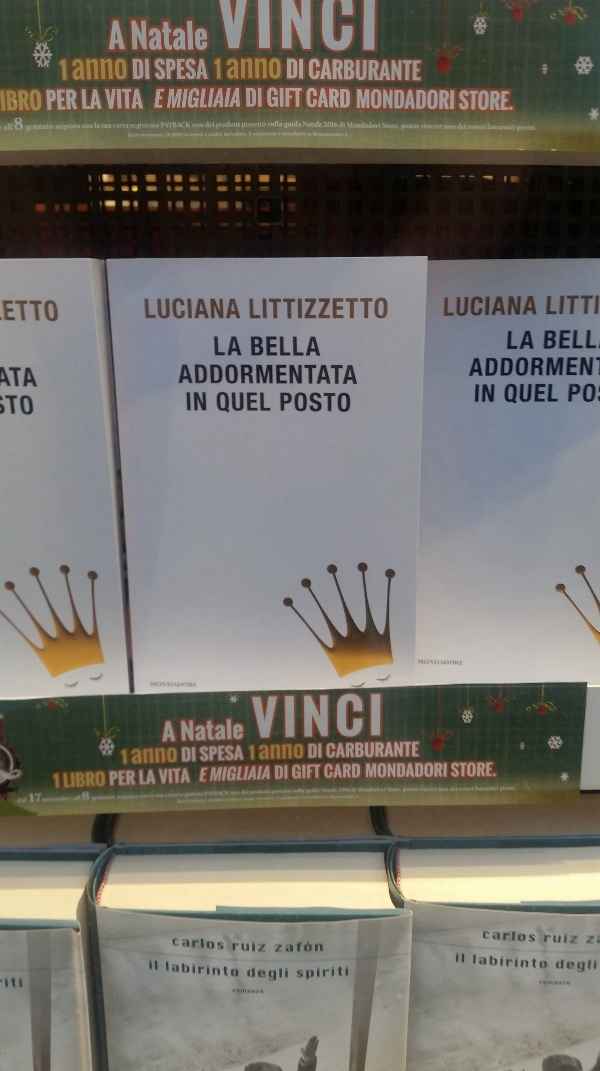text: (225, 1, 240, 56), (241, 1, 256, 56), (257, 1, 272, 56), (273, 1, 288, 56), (289, 1, 304, 56), (305, 1, 320, 56), (321, 1, 336, 56), (337, 1, 352, 56), (353, 1, 368, 56), (257, 693, 272, 742), (273, 693, 288, 742), (289, 693, 304, 742), (305, 693, 320, 742), (321, 693, 336, 742), (337, 693, 352, 742), (353, 693, 368, 742), (369, 693, 383, 742), (193, 19, 209, 55), (369, 1, 379, 56), (145, 19, 160, 55), (161, 19, 176, 55), (177, 19, 192, 55), (113, 18, 127, 54), (131, 19, 144, 55), (449, 294, 464, 322), (465, 294, 480, 322), (481, 294, 496, 322), (497, 294, 512, 322), (513, 294, 528, 322), (257, 297, 272, 323), (273, 297, 288, 323), (289, 297, 304, 323), (305, 297, 320, 323), (321, 297, 336, 323), (337, 297, 352, 323), (353, 297, 368, 323), (369, 297, 384, 323), (217, 1, 224, 56), (241, 57, 256, 82), (257, 57, 272, 82), (321, 58, 336, 83), (337, 58, 352, 83), (353, 58, 368, 83), (369, 58, 384, 83), (385, 58, 400, 83), (401, 58, 416, 83), (193, 364, 208, 389), (209, 364, 224, 389), (225, 364, 240, 389), (241, 364, 256, 389), (257, 364, 272, 389), (273, 364, 288, 389), (289, 364, 304, 389), (305, 364, 320, 389), (321, 364, 336, 389), (337, 364, 352, 389), (481, 355, 496, 380), (497, 355, 512, 380), (513, 355, 528, 380), (529, 355, 544, 380), (545, 355, 560, 380), (561, 355, 576, 380), (577, 355, 592, 380), (193, 58, 209, 81), (225, 88, 241, 111), (225, 298, 241, 321), (49, 89, 64, 113), (81, 88, 96, 112), (113, 87, 128, 111), (129, 87, 144, 111), (81, 58, 96, 82), (97, 58, 112, 82), (113, 58, 128, 82), (369, 88, 384, 112), (385, 88, 400, 112), (401, 88, 416, 112), (417, 88, 432, 112), (433, 88, 448, 112), (17, 299, 32, 323), (33, 299, 48, 323), (193, 719, 208, 743), (209, 719, 224, 743), (225, 719, 240, 743), (1, 90, 16, 113), (17, 90, 32, 113), (161, 58, 176, 81), (177, 58, 192, 81), (177, 88, 192, 111), (193, 88, 208, 111), (209, 88, 224, 111), (321, 87, 336, 110), (465, 90, 480, 113), (481, 90, 496, 113), (497, 90, 512, 113), (145, 298, 160, 321), (161, 298, 176, 321), (177, 298, 192, 321), (193, 298, 208, 321), (209, 298, 224, 321), (225, 390, 240, 413), (241, 390, 256, 413), (2, 299, 16, 323), (305, 336, 321, 357), (273, 87, 288, 109), (289, 58, 304, 80), (1, 366, 16, 388), (17, 366, 32, 388), (289, 392, 304, 414), (305, 392, 320, 414), (321, 392, 336, 414), (577, 382, 592, 404), (227, 57, 240, 82), (337, 87, 351, 110), (257, 390, 271, 413), (1, 394, 16, 415), (17, 394, 32, 415), (225, 336, 240, 357), (257, 336, 272, 357), (273, 336, 288, 357), (289, 336, 304, 357), (561, 295, 576, 316), (577, 295, 592, 316), (513, 330, 528, 351), (513, 383, 528, 404), (529, 383, 544, 404), (65, 89, 78, 113), (289, 87, 303, 109), (337, 392, 351, 414), (545, 330, 560, 350), (561, 330, 576, 350), (577, 330, 592, 350), (561, 958, 576, 978), (577, 958, 592, 978), (307, 87, 320, 110), (545, 383, 559, 404), (250, 693, 256, 742), (65, 771, 80, 790), (81, 771, 96, 790), (145, 747, 160, 766), (161, 747, 176, 766), (337, 740, 352, 759), (353, 740, 368, 759), (369, 740, 384, 759), (385, 740, 400, 759), (401, 740, 416, 759), (193, 391, 207, 411), (481, 384, 495, 404), (132, 58, 144, 81), (309, 58, 320, 83), (547, 295, 560, 316), (113, 770, 128, 788), (161, 768, 176, 786), (209, 745, 224, 763), (225, 745, 240, 763), (177, 961, 192, 979), (193, 961, 208, 979), (209, 961, 224, 979), (357, 88, 368, 112), (49, 299, 60, 323), (305, 764, 321, 780), (273, 744, 288, 761), (289, 744, 304, 761), (465, 761, 480, 778), (481, 761, 496, 778), (257, 967, 272, 984), (273, 967, 288, 984), (305, 965, 320, 982), (321, 965, 336, 982), (177, 768, 191, 786), (225, 961, 239, 979), (246, 86, 256, 110), (182, 719, 192, 743), (225, 766, 240, 782), (241, 766, 256, 782), (369, 763, 384, 779), (385, 763, 400, 779), (401, 763, 416, 779), (417, 763, 432, 779), (177, 936, 192, 952), (193, 936, 208, 952), (209, 936, 224, 952), (289, 940, 304, 956), (305, 940, 320, 956), (481, 954, 496, 970), (497, 954, 512, 970), (513, 954, 528, 970), (529, 954, 544, 970), (214, 58, 224, 81), (132, 747, 144, 766), (183, 364, 192, 389), (337, 764, 352, 779), (241, 940, 256, 955), (497, 930, 512, 945), (513, 930, 528, 945), (529, 294, 537, 322), (257, 766, 271, 782), (433, 763, 447, 779), (259, 744, 272, 761), (451, 761, 464, 778), (166, 721, 176, 743), (417, 658, 432, 672), (433, 658, 448, 672), (275, 940, 288, 956), (33, 90, 42, 113), (4, 974, 16, 991), (337, 965, 349, 982), (273, 57, 281, 82), (53, 772, 64, 790), (449, 658, 463, 672), (483, 930, 496, 945), (545, 933, 560, 946), (561, 933, 576, 946), (72, 58, 80, 82), (212, 766, 224, 782), (292, 764, 304, 780), (308, 743, 320, 759), (326, 740, 336, 759), (215, 336, 224, 357), (145, 769, 156, 786), (275, 766, 288, 780), (182, 746, 192, 764), (324, 764, 336, 779), (166, 961, 176, 979), (280, 392, 288, 414), (97, 771, 106, 790), (105, 87, 112, 111), (33, 123, 48, 134), (169, 88, 176, 111), (217, 390, 224, 413), (250, 297, 256, 323), (569, 382, 576, 404), (82, 791, 96, 802), (65, 123, 80, 133), (225, 121, 240, 131), (353, 364, 359, 389), (474, 355, 480, 380), (257, 86, 263, 110), (449, 88, 455, 112), (149, 959, 160, 972), (145, 122, 159, 132), (248, 967, 256, 984), (497, 122, 512, 131), (97, 794, 112, 803), (161, 680, 176, 689), (177, 680, 192, 689), (257, 940, 266, 955), (121, 748, 128, 767), (289, 119, 301, 130), (131, 122, 144, 132), (242, 121, 256, 130), (402, 123, 416, 132), (593, 295, 599, 316), (506, 383, 512, 404), (129, 770, 136, 788), (201, 745, 208, 763), (417, 58, 422, 83), (97, 88, 102, 112), (353, 122, 368, 130), (385, 122, 400, 130), (209, 790, 224, 798), (353, 764, 361, 779), (241, 988, 256, 996), (545, 979, 560, 987), (249, 744, 256, 761), (297, 965, 304, 982), (33, 792, 42, 805), (145, 58, 150, 81), (155, 58, 160, 81), (459, 90, 464, 113), (60, 56, 64, 84), (17, 117, 24, 133), (444, 294, 448, 322), (473, 954, 480, 970), (267, 87, 272, 109), (33, 366, 38, 388), (161, 122, 176, 129), (305, 121, 320, 128), (251, 336, 256, 357), (529, 330, 534, 351), (177, 792, 192, 799), (233, 940, 240, 955), (529, 930, 536, 945), (138, 769, 144, 786), (17, 974, 23, 991), (187, 391, 192, 411), (593, 958, 598, 978), (177, 122, 191, 129), (18, 796, 32, 803), (457, 952, 464, 966), (156, 87, 160, 111), (161, 87, 165, 111), (4, 123, 16, 131), (324, 121, 336, 129), (369, 122, 381, 130), (145, 132, 160, 138), (321, 132, 336, 138), (49, 797, 64, 803), (273, 789, 288, 795), (321, 788, 336, 794), (369, 787, 384, 793), (449, 787, 464, 793), (481, 786, 496, 792), (497, 786, 512, 792), (202, 767, 208, 782), (421, 123, 432, 131), (517, 125, 528, 133), (65, 56, 68, 84), (82, 124, 96, 130), (114, 123, 128, 129), (340, 122, 352, 129), (468, 124, 480, 131), (508, 330, 512, 351), (340, 787, 352, 794), (257, 121, 266, 130), (151, 680, 160, 689), (56, 123, 64, 133), (433, 123, 443, 131), (593, 330, 597, 350), (476, 384, 480, 404), (561, 979, 571, 987), (385, 297, 388, 323), (257, 790, 270, 796), (307, 788, 320, 794), (403, 787, 416, 793), (209, 132, 224, 137), (257, 132, 272, 137), (289, 132, 304, 137), (145, 794, 160, 799), (193, 799, 208, 804), (209, 798, 224, 803), (225, 798, 240, 803), (337, 132, 349, 138), (488, 122, 496, 131), (388, 787, 400, 793), (241, 719, 244, 743), (217, 121, 224, 131), (273, 121, 283, 128), (129, 794, 139, 801), (166, 792, 176, 799), (193, 792, 203, 799), (178, 799, 192, 804), (26, 123, 32, 134), (193, 123, 204, 129), (593, 382, 596, 404), (119, 794, 128, 801), (129, 132, 139, 138), (166, 132, 176, 138), (102, 123, 112, 129), (241, 797, 256, 801), (257, 797, 272, 801), (305, 796, 320, 800), (337, 795, 352, 799), (358, 787, 368, 793), (557, 958, 560, 978), (587, 934, 592, 946), (529, 125, 536, 133), (233, 988, 240, 996), (257, 988, 264, 996), (193, 133, 204, 138), (49, 123, 54, 134), (439, 787, 448, 793), (465, 787, 474, 793), (109, 770, 112, 788), (193, 746, 196, 764), (241, 745, 244, 763), (307, 132, 320, 136), (419, 788, 432, 792), (278, 132, 288, 137), (457, 123, 464, 130), (184, 132, 192, 138), (46, 89, 48, 113), (173, 936, 176, 952), (545, 954, 548, 970), (231, 791, 240, 796), (284, 119, 288, 130), (293, 790, 304, 794), (313, 132, 320, 138), (74, 795, 80, 802), (289, 797, 303, 800), (209, 121, 214, 129), (225, 790, 230, 798), (241, 791, 249, 796), (539, 979, 544, 987), (29, 792, 32, 805), (417, 740, 419, 759), (177, 132, 183, 138), (513, 122, 517, 131), (65, 797, 71, 803), (92, 794, 96, 803), (158, 768, 160, 786), (225, 132, 232, 137), (233, 132, 240, 137), (241, 132, 248, 137), (249, 132, 256, 137), (449, 125, 456, 130), (481, 124, 486, 131), (277, 797, 288, 800), (14, 117, 16, 133), (348, 122, 352, 130), (321, 796, 329, 800), (366, 763, 368, 779), (321, 940, 323, 956), (282, 132, 288, 137), (43, 797, 48, 803), (251, 790, 256, 796), (97, 122, 101, 129), (268, 121, 272, 128), (417, 123, 420, 132), (193, 680, 196, 689), (577, 933, 579, 946), (593, 355, 594, 380), (161, 132, 165, 138), (205, 790, 208, 798), (330, 795, 336, 799), (353, 795, 359, 799), (353, 788, 357, 794), (476, 786, 480, 792), (593, 934, 595, 946), (513, 90, 514, 113), (287, 58, 288, 80), (33, 394, 34, 415), (241, 336, 242, 357), (273, 132, 277, 137), (444, 125, 448, 130), (140, 794, 144, 799), (433, 788, 438, 792), (63, 771, 64, 790), (177, 747, 178, 766), (141, 132, 144, 138), (173, 132, 176, 138), (113, 794, 115, 803), (289, 789, 292, 795), (513, 786, 516, 792), (206, 121, 208, 129), (321, 743, 322, 759), (205, 133, 208, 138), (253, 132, 256, 137), (161, 794, 164, 799), (321, 121, 323, 128), (465, 123, 467, 130), (417, 787, 419, 793), (81, 123, 82, 133), (337, 121, 338, 129), (383, 122, 384, 130), (273, 797, 275, 801), (95, 122, 96, 129), (303, 121, 304, 128), (81, 795, 82, 802), (385, 787, 386, 793), (401, 787, 402, 793), (191, 133, 192, 138), (305, 132, 306, 137)
